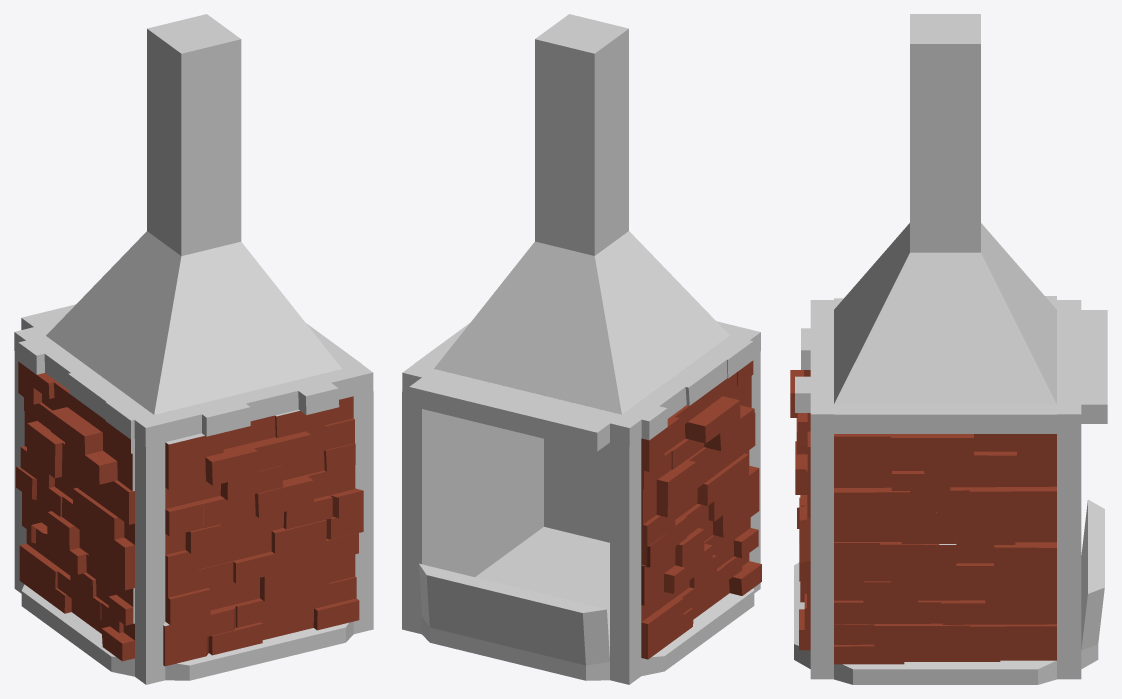
The model's file is FirePlace.fbx.
3 renders of one model, left to right at view 1: azimuth 30°, elevation 25°; view 2: azimuth 150°, elevation 25°; view 3: azimuth 270°, elevation 25°, orthographic. The views are drawn at different scales.
Parts seen in each view (by area): view 1: Cube; view 2: Cube; view 3: Cube.
Boxes of the visible parts, x1,y1,x2,y2 form: Cube: (14, 14, 373, 684); Cube: (402, 14, 761, 684); Cube: (790, 14, 1107, 684).
Bounding box in the file's own units: 193 × 405 × 197.
